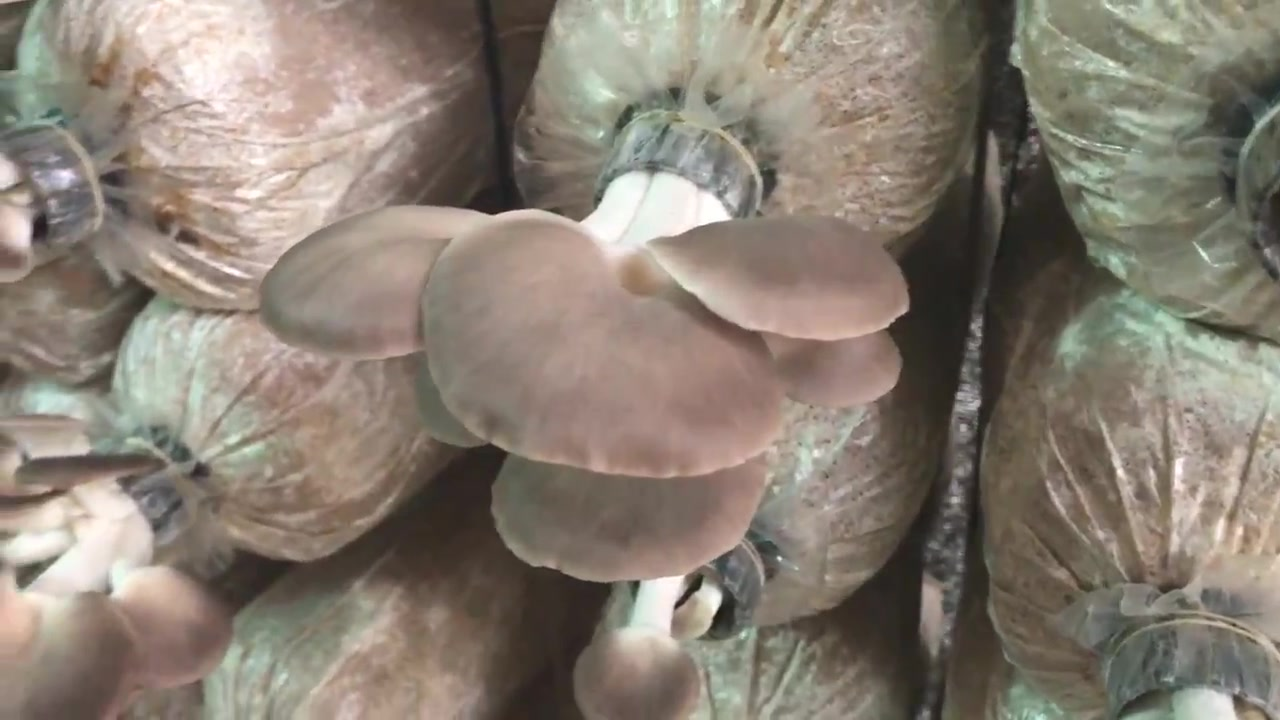nam: (264, 115, 908, 583), (1, 418, 231, 720), (572, 537, 772, 720), (1, 130, 96, 283)
